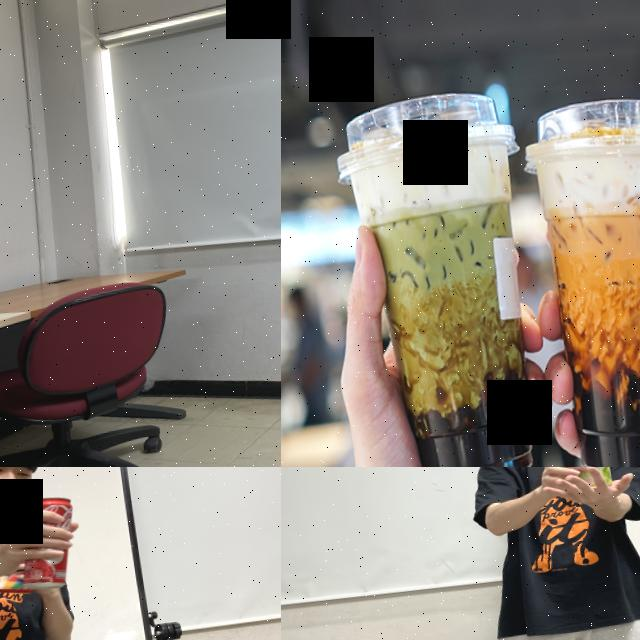can: (11, 494, 83, 593), (567, 467, 613, 493)
cup: (327, 83, 559, 467), (517, 86, 640, 467)
